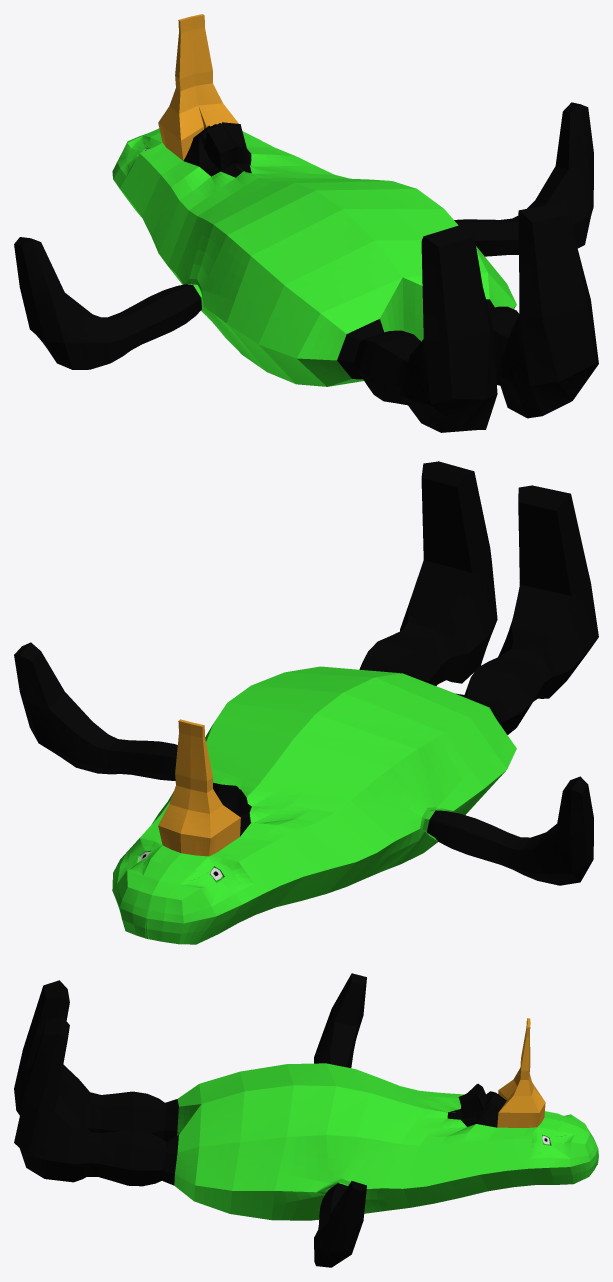
Rendered from pingler.fbx.
The picture shows the model from 3 angles, top to bottom: view 1: azimuth 30°, elevation 25°; view 2: azimuth 150°, elevation 25°; view 3: azimuth 270°, elevation 25°; orthographic projection. The views are drawn at different scales.
Parts seen in each view (by area): view 1: Cube; view 2: Cube; view 3: Cube.
Part boxes in pixels (bbox=[...]): Cube: bbox=[14, 14, 598, 432]; Cube: bbox=[14, 461, 598, 944]; Cube: bbox=[14, 973, 598, 1267].
Size of the model in its own units: 1315 by 568 by 1515.
